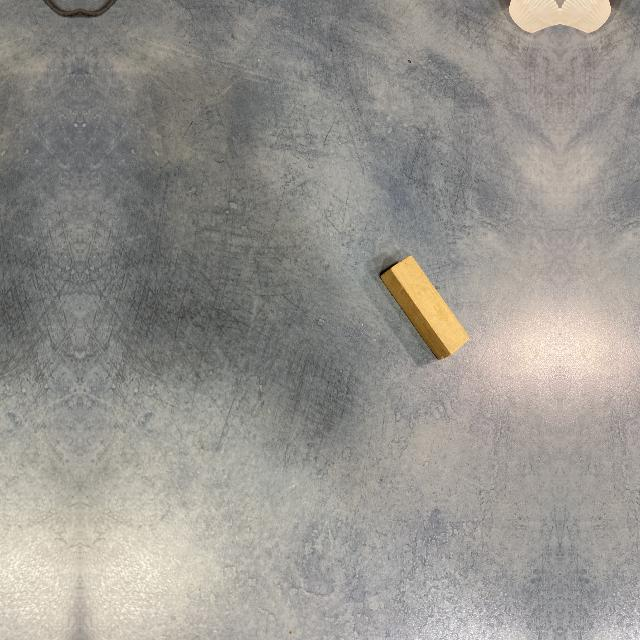jenga: (379, 255, 470, 360)
